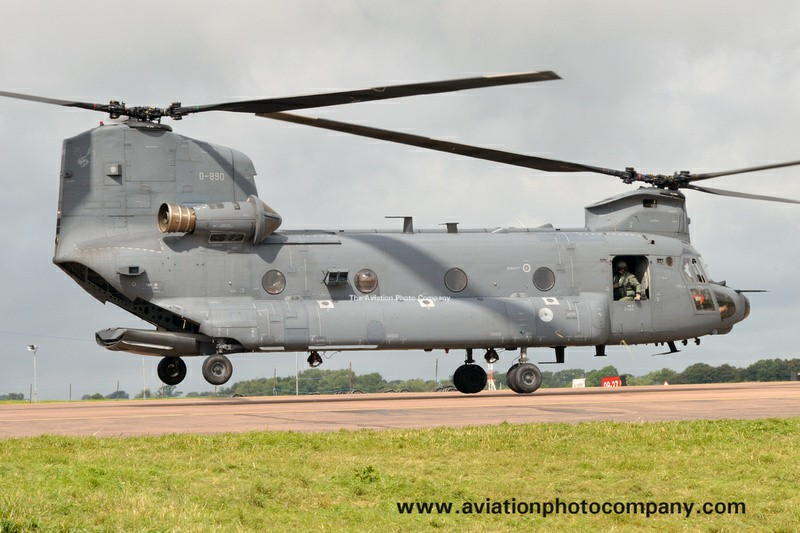chinook: (1, 78, 794, 390)
